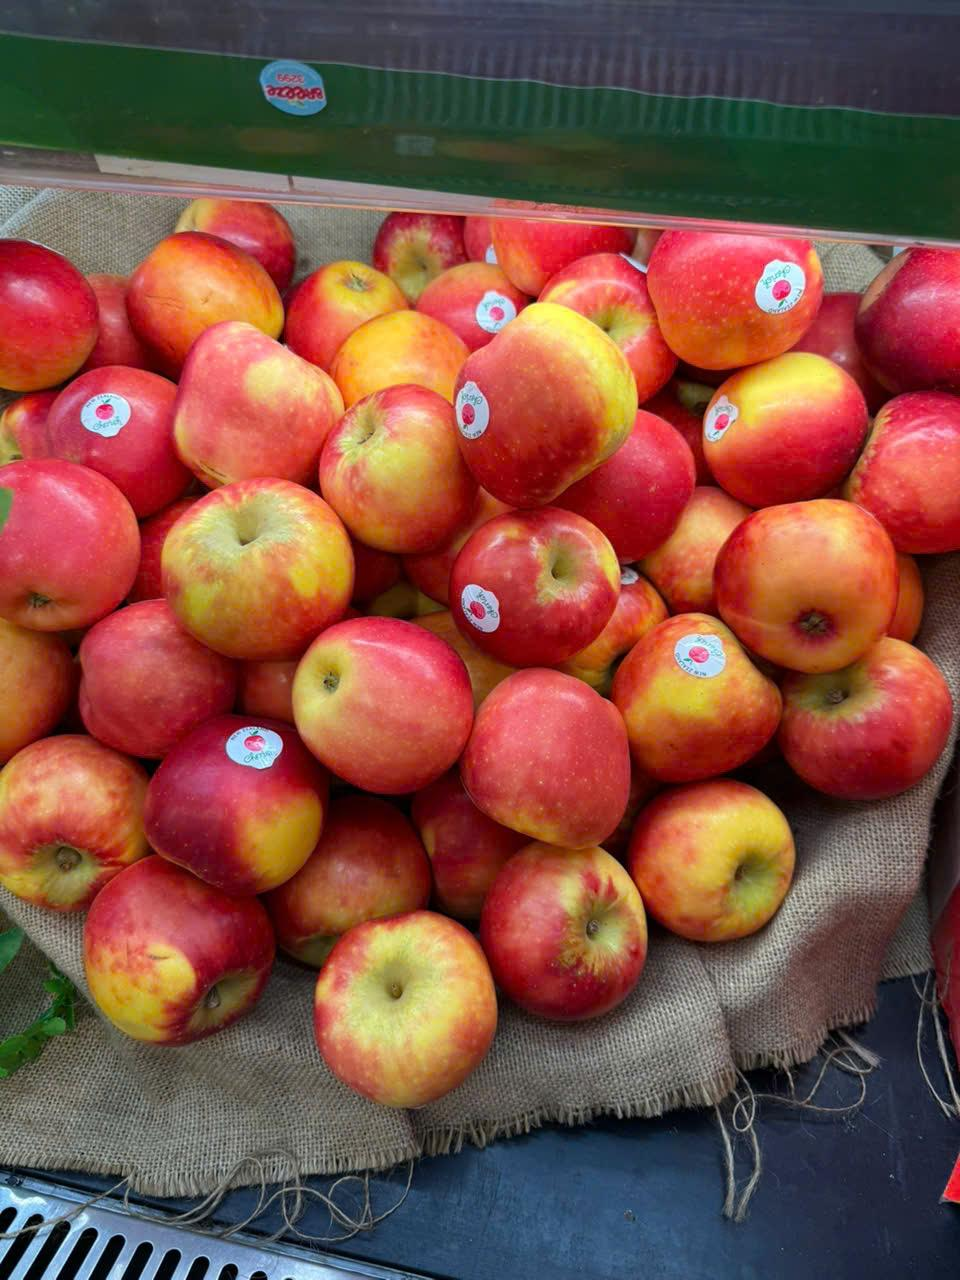apple: (440, 298, 636, 498), (290, 600, 480, 796), (160, 466, 352, 654), (88, 840, 268, 1034), (460, 661, 640, 848), (480, 843, 664, 1024), (308, 916, 508, 1082), (440, 491, 622, 666), (715, 496, 906, 662), (150, 706, 324, 884), (630, 773, 804, 948), (675, 338, 874, 484), (610, 605, 776, 772), (0, 736, 148, 914), (180, 326, 336, 480), (90, 600, 240, 760), (650, 233, 824, 370), (325, 380, 470, 544), (0, 465, 140, 632), (148, 208, 292, 342), (42, 348, 168, 496), (0, 218, 108, 382), (860, 243, 960, 378)
